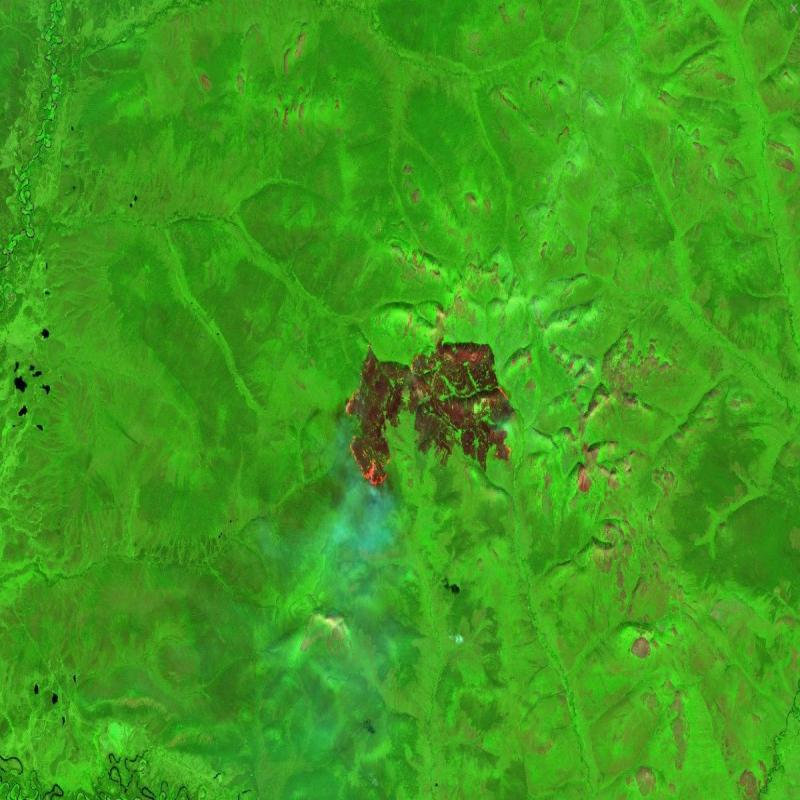fire: (340, 338, 517, 493)
